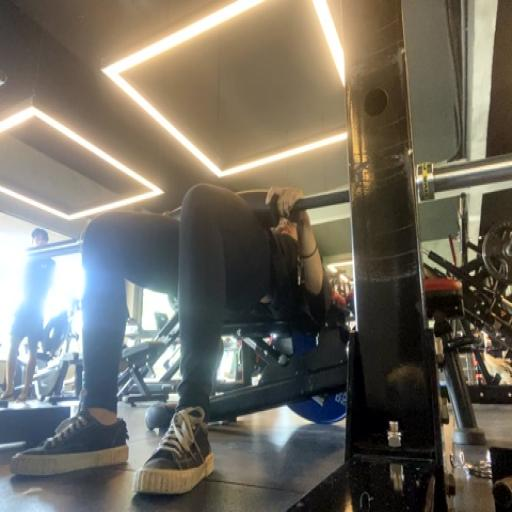exercise: (8, 179, 335, 498)
